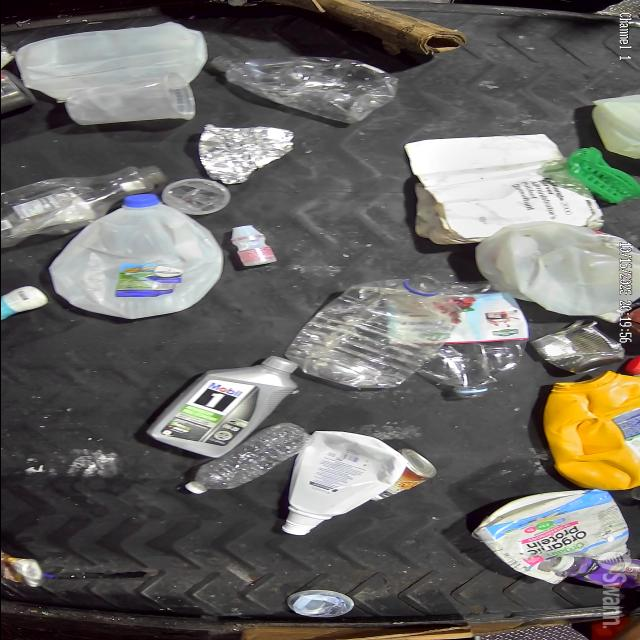can: (191, 124, 296, 184), (532, 320, 626, 374), (358, 447, 438, 503), (278, 586, 362, 620)
milk_jug: (50, 196, 226, 310), (463, 225, 640, 325), (22, 25, 215, 83), (576, 92, 640, 167)
non_white_jug: (148, 358, 308, 444), (536, 370, 640, 493)
plastic_bottle: (290, 276, 458, 376), (406, 290, 528, 399), (184, 422, 311, 491)
